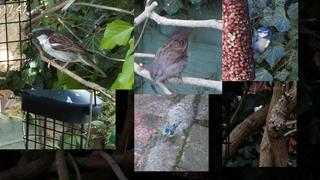blue tit: (248, 27, 272, 60), (162, 121, 182, 146)
dunnock: (149, 27, 196, 86)
sparrow: (27, 27, 108, 77)
